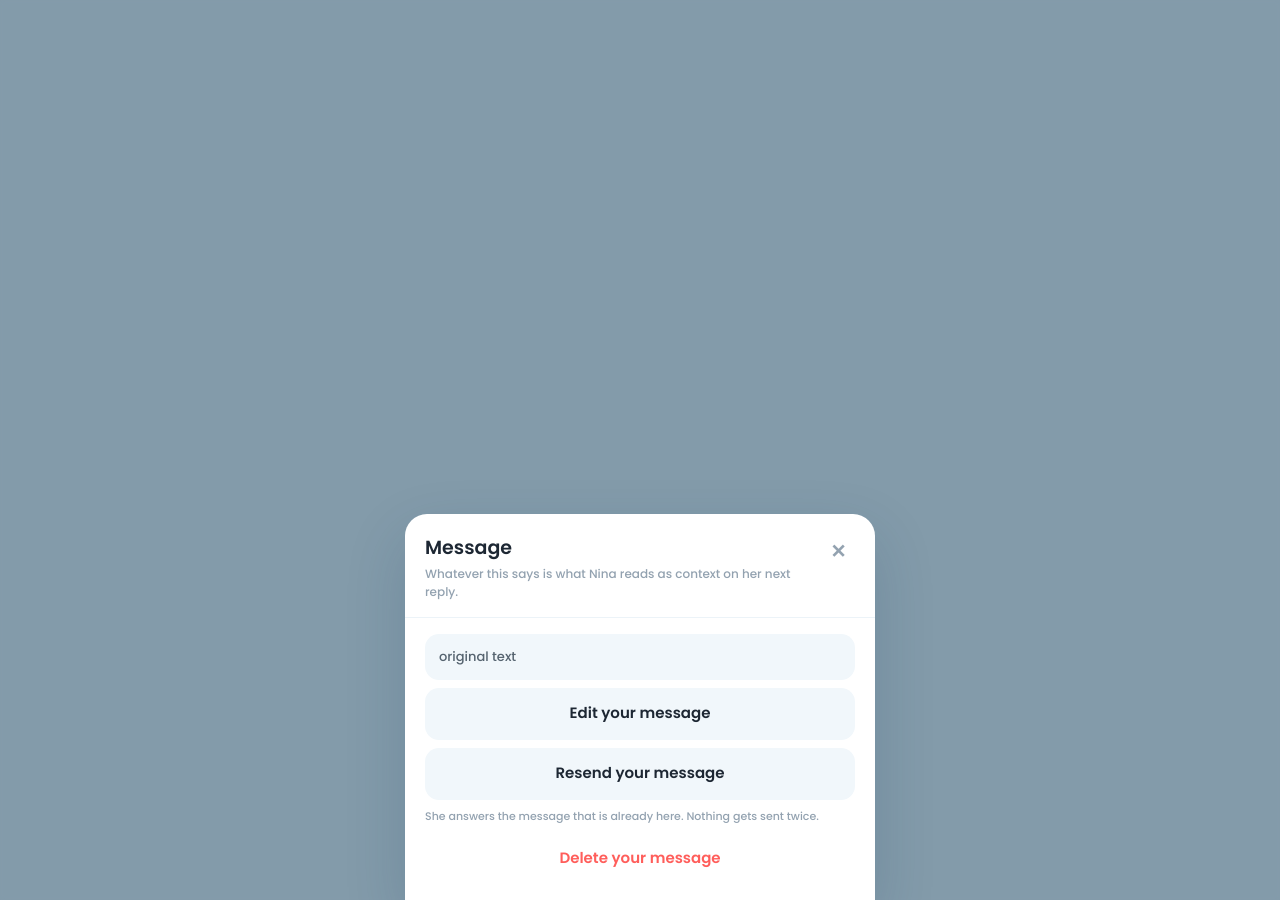
it: MessageActionsSheet › editing › clears the whole draft and refocuses the textarea on one click
Step 1. Click the button "Edit your message" → click(640, 714), box top-left (425, 688), bottom-right (855, 740)
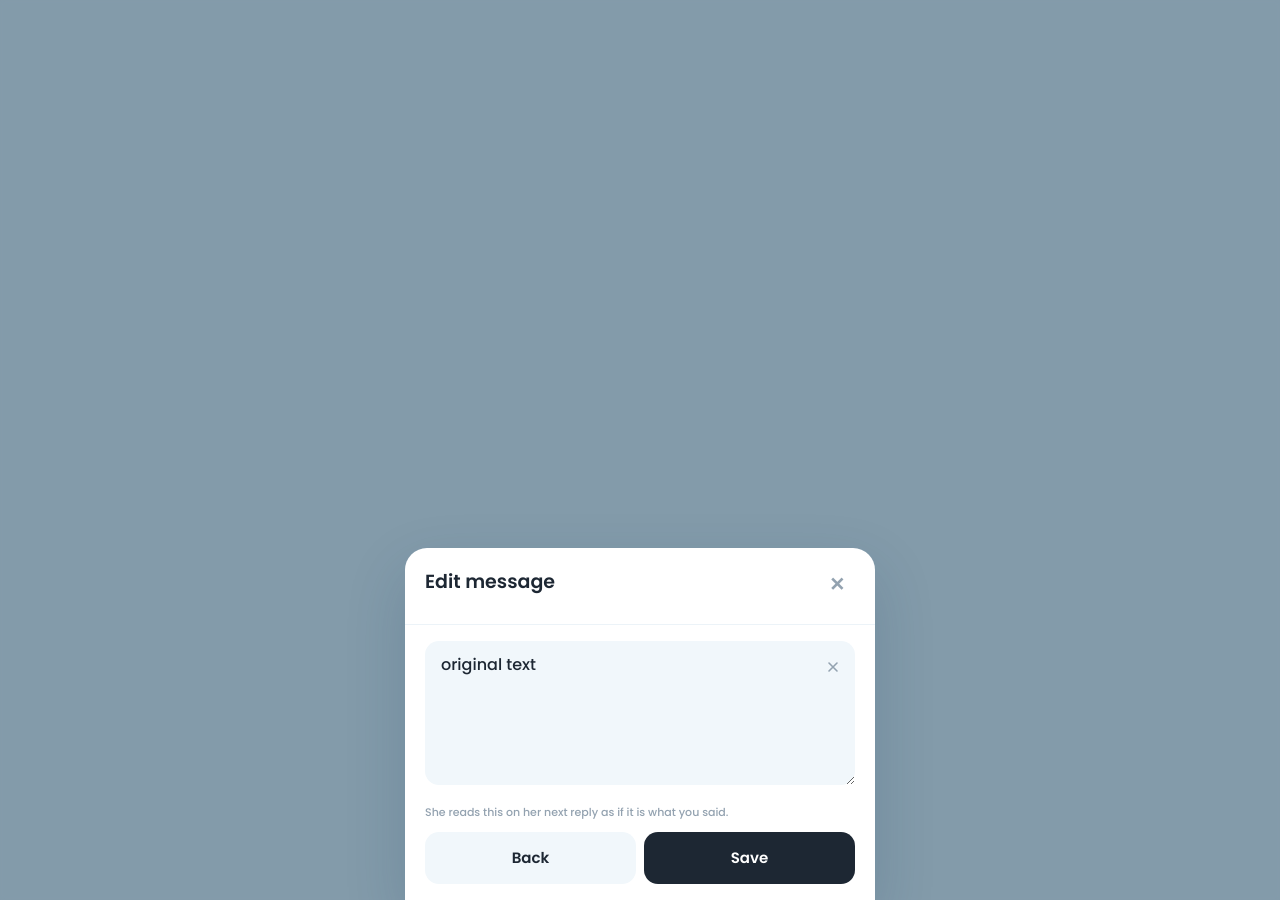
Step 2. Click the button named "Clear text" → click(833, 666), box top-left (819, 652), bottom-right (847, 680)
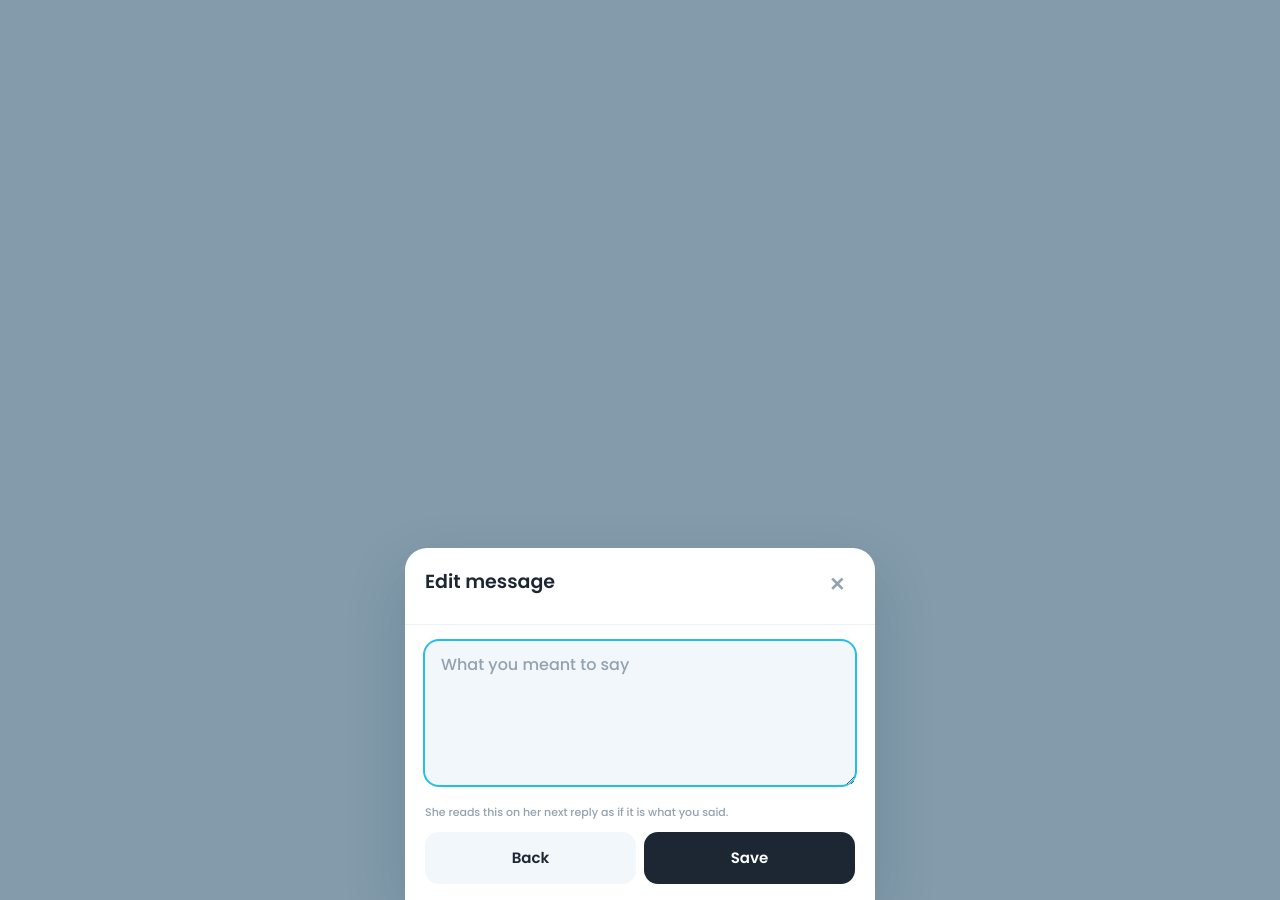
Result: the text box is empty at top-left (425, 640), bottom-right (855, 784)
